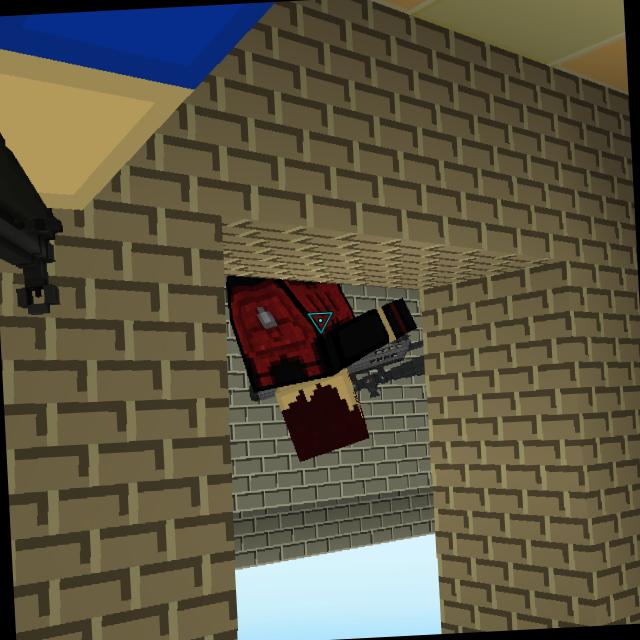enemy: (223, 271, 422, 483)
